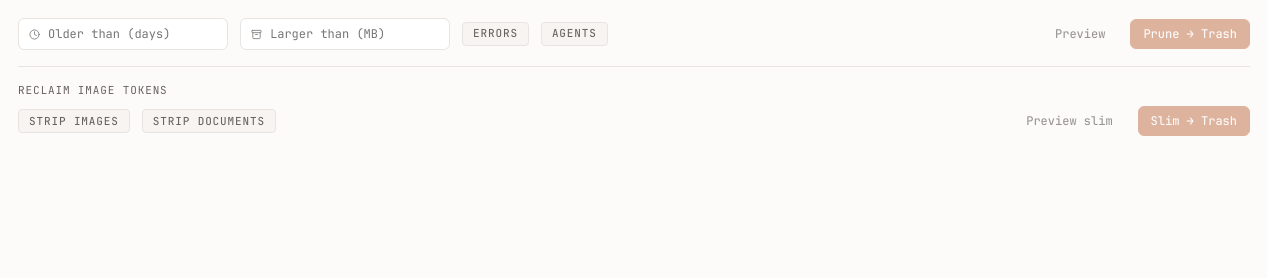
Test case: CleanupPane › Preview with older-than enables Prune button on returned plan
Type "30" into the number field named "Older than days" at (132, 34), box [48,26,217,42]
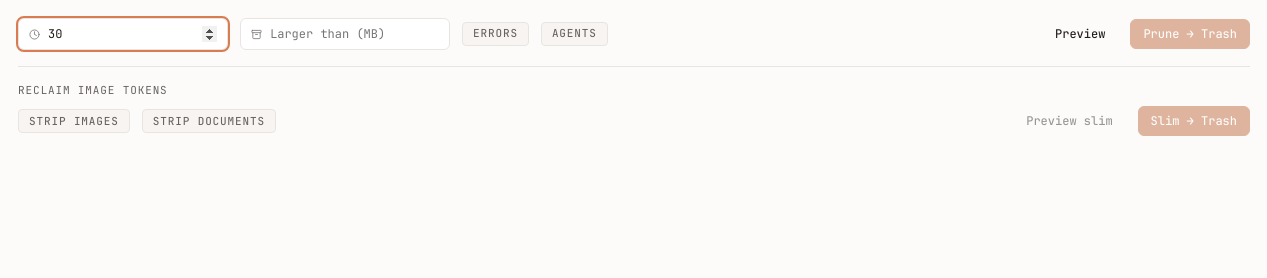
Click the button "Preview" at (1080, 34), box [1042,19,1118,49]
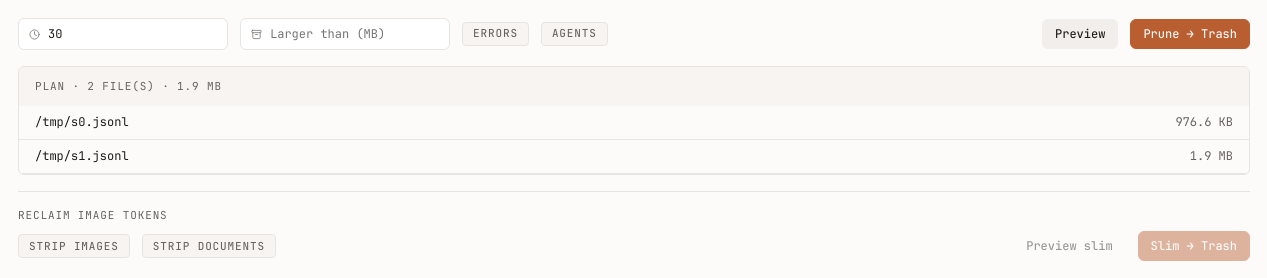
Expected: the element with test id "prune-preview" is shown, [18,66,1250,175]
Expected: the button "Prune → Trash" is enabled, [1130,19,1250,49]
